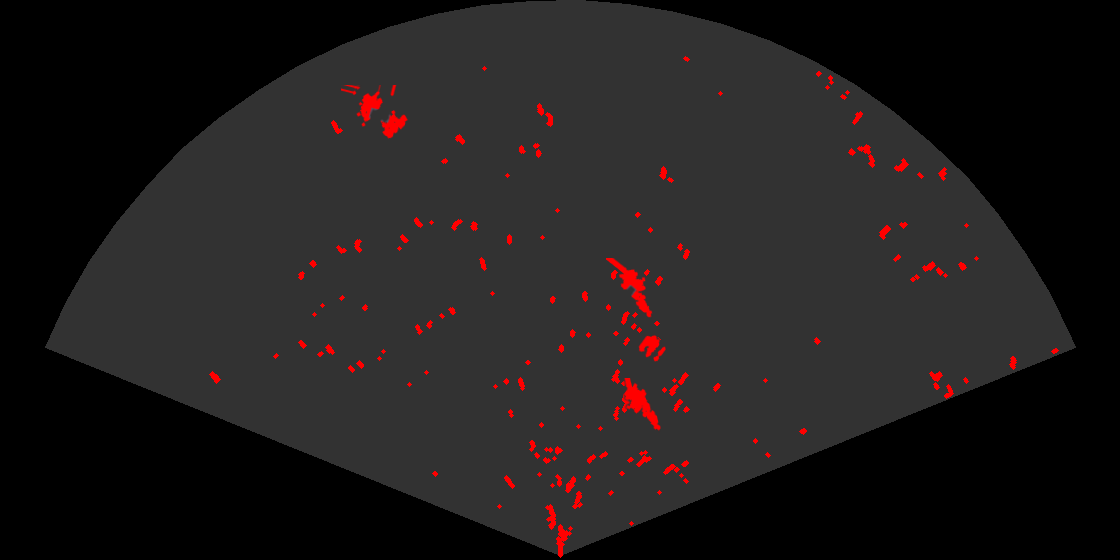ball: (637, 333, 667, 363)
cage: (341, 85, 410, 140)
frogman: (606, 258, 654, 319), (622, 378, 662, 433)
